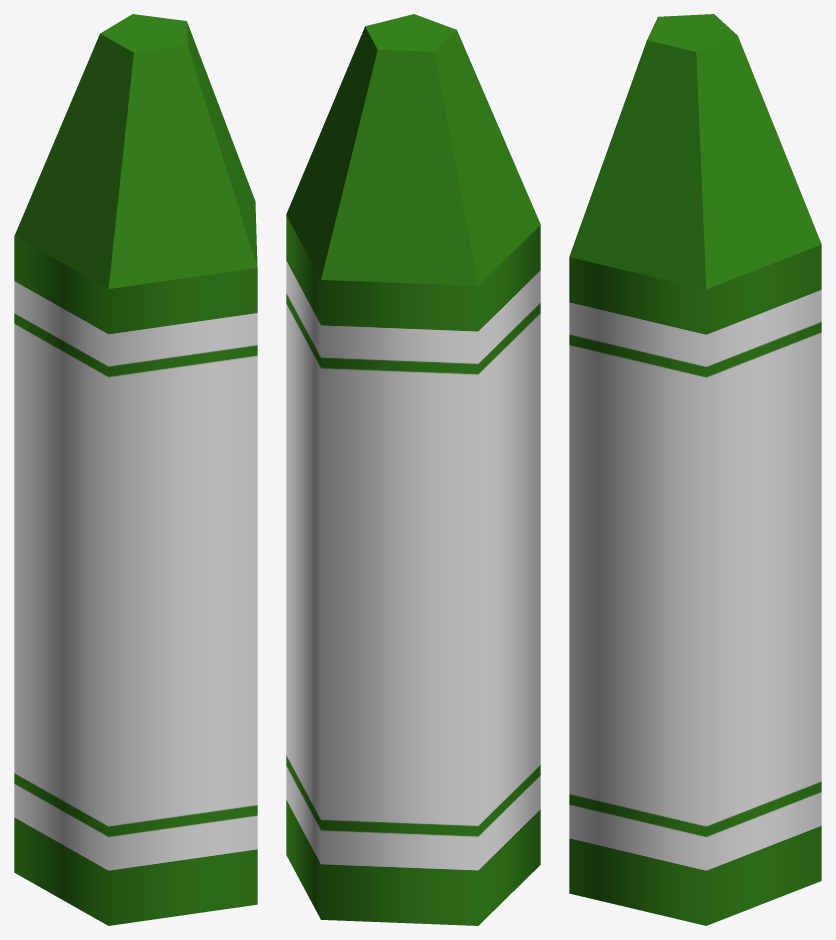
File: Crepas_Green.fbx
3 views of the same model, side by side, from view 1: azimuth 30°, elevation 25°; view 2: azimuth 150°, elevation 25°; view 3: azimuth 270°, elevation 25° (orthographic).
Visible parts, largest first — view 1: Green; view 2: Green; view 3: Green.
Boxes of the visible parts, box(x1,y1,x2,y2) form: Green: box(14, 14, 257, 925); Green: box(286, 14, 540, 925); Green: box(569, 14, 821, 925).
Size of the model in its own units: 8.36 by 30.99 by 8.46.
Materials: 1 (1 with a texture image).
